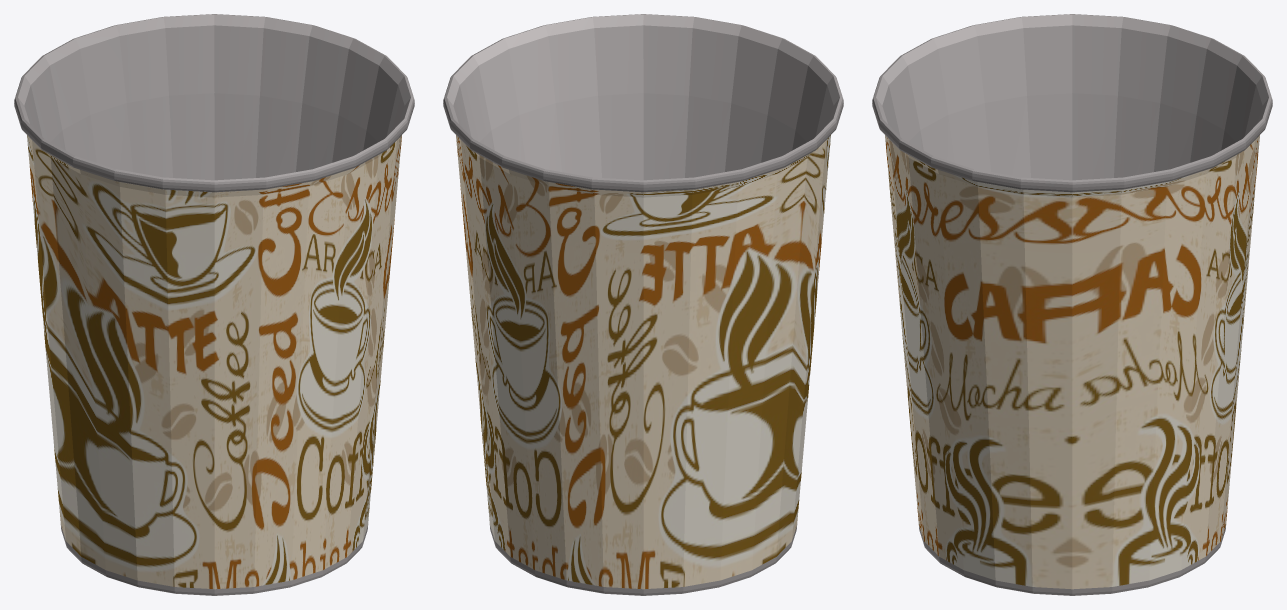
3 renders of one model, left to right at view 1: azimuth 30°, elevation 25°; view 2: azimuth 150°, elevation 25°; view 3: azimuth 270°, elevation 25°, orthographic.
Size of the model in its own units: 0.0835 by 0.1 by 0.0835.
Materials: 1 (1 with a texture image).
